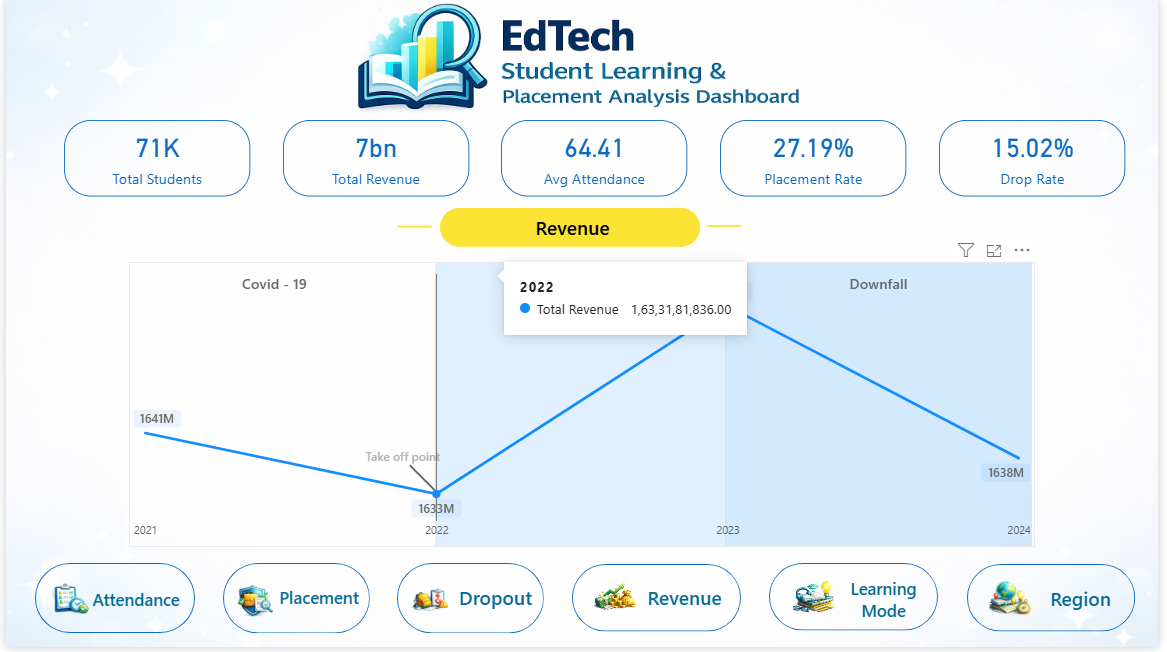

The dashboard page shown, as its layout file describes it:
{"tool":"powerbi","page":{"name":"Intro","canvas":[1280,720],"ordinal":0},"visuals":[{"type":"shape","box":[476.7,292.3,323.3,316.7],"z":0},{"type":"shape","box":[798.9,292.3,341.1,316.7],"z":1000},{"type":"shape","box":[133.3,291.2,342.2,316.7],"z":2000},{"type":"image","box":[386.7,0,500,136.7],"z":3000},{"type":"card","fields":{"Values":["project students_data.Total Students"]},"box":[64,133.9,207.5,85.1],"z":4000},{"type":"shape","box":[32.2,626.8,177.8,77.8],"z":4000,"group":"g5"},{"type":"card","fields":{"Values":["project students_data.Total Revenue"]},"box":[307.4,133.9,206.6,85.1],"z":5000},{"type":"shape","box":[240.8,626.6,163.2,78.1],"z":5000,"group":"g6"},{"type":"card","fields":{"Values":["project students_data.Avg Attendance"]},"box":[550,133.9,207.5,85.1],"z":6000},{"type":"textbox","box":[290.8,646.6,113.3,40],"z":6000,"group":"g6"},{"type":"textbox","box":[91.1,649,118.9,40],"z":6000,"group":"g5"},{"type":"card","fields":{"Values":["project students_data.Placement Rate"]},"box":[793.4,133.9,207.5,85.1],"z":7000},{"type":"shape","box":[434.9,626.2,163.2,78.1],"z":7000,"group":"g4"},{"type":"image","box":[50.7,635.5,40.5,60.7],"z":7000,"group":"g5"},{"type":"image","box":[256.5,638.5,40.5,59.8],"z":7000,"group":"g6"},{"type":"card","fields":{"Values":["project students_data.Drop Rate"]},"box":[1036.8,133.9,207.5,85.1],"z":8000},{"type":"textbox","box":[497.6,644.7,94.6,39.2],"z":8000,"group":"g4"},{"type":"group","id":"g1","title":"Group 2","box":[847.5,627.1,187.8,75.6],"z":9000},{"type":"image","box":[451.3,636.9,40.5,59.8],"z":9000,"group":"g4"},{"type":"group","id":"g2","title":"Group 3","box":[1067.4,627.4,186.9,74.9],"z":10000},{"type":"shape","box":[628.9,627.6,187.7,74.9],"z":10000,"group":"g3"},{"type":"group","id":"g3","title":"Group 1","box":[628.9,627.6,187.8,74.4],"z":11000},{"type":"textbox","box":[700.4,645.8,108,38.3],"z":11000,"group":"g3"},{"type":"group","id":"g4","title":"Group 4","box":[434.9,626.2,163.3,78.9],"z":12000},{"type":"image","box":[653.5,635.8,46.8,57.4],"z":12000,"group":"g3"},{"type":"group","id":"g5","title":"Group 5","box":[32.2,626.8,177.8,77.8],"z":13000},{"type":"shape","box":[847.5,627.1,187.7,74.9],"z":13000,"group":"g1"},{"type":"group","id":"g6","title":"Group 6","box":[240.8,626.6,163.3,78.1],"z":14000},{"type":"textbox","box":[920.7,636.6,107.9,63.5],"z":14000,"group":"g1"},{"type":"textbox","box":[675.6,316.8,95.6,26.7],"z":15000},{"type":"image","box":[873.8,636.3,46.8,57.4],"z":15000,"group":"g1"},{"type":"shape","box":[766.7,303.4,31.1,65.6],"z":16000},{"type":"shape","box":[1067.4,627.4,186.9,74.9],"z":16000,"group":"g2"},{"type":"textbox","box":[247.8,300.1,101.1,36.7],"z":17000},{"type":"textbox","box":[1139.2,645.9,108,38.3],"z":17000,"group":"g2"},{"type":"textbox","box":[585.6,300.1,101.1,36.7],"z":18000},{"type":"image","box":[1092.4,635.9,46.8,57.4],"z":18000,"group":"g2"},{"type":"textbox","box":[918.9,300.1,101.1,36.7],"z":19000},{"type":"textbox","box":[388.9,494.6,104.4,26.7],"z":20000},{"type":"shape","box":[447.8,500.1,31.1,65.6],"z":21000},{"type":"lineChart","fields":{"Category":["project students_data.Enrollment_Date.Variation.Date Hierarchy.Year"],"Y":["project students_data.Total Revenue"]},"box":[136.7,292.2,1006.7,316.7],"z":22000},{"type":"textbox","box":[482.3,232.2,288.9,43.3],"z":23000},{"type":"shape","box":[779,223.3,37.8,57.8],"z":24000},{"type":"shape","box":[435.5,223.9,37.2,56.7],"z":25000}]}

Visuals, with their boxes in screenshot pixels (x1, y1, x2, y2), scaled from the page's 1280x720 canvas onto the 1167x652 screenshot:
shape: crop(435, 265, 729, 551)
shape: crop(728, 265, 1039, 551)
shape: crop(122, 264, 434, 550)
image: crop(353, 0, 808, 124)
card - project students_data.Total Students: crop(58, 121, 248, 198)
shape: crop(29, 568, 191, 638)
card - project students_data.Total Revenue: crop(280, 121, 469, 198)
shape: crop(220, 567, 368, 638)
card - project students_data.Avg Attendance: crop(501, 121, 691, 198)
textbox: crop(265, 586, 368, 622)
textbox: crop(83, 588, 191, 624)
card - project students_data.Placement Rate: crop(723, 121, 913, 198)
shape: crop(397, 567, 545, 638)
image: crop(46, 575, 83, 630)
image: crop(234, 578, 271, 632)
card - project students_data.Drop Rate: crop(945, 121, 1134, 198)
textbox: crop(454, 584, 540, 619)
"Group 2" group: crop(773, 568, 944, 636)
image: crop(411, 577, 448, 631)
"Group 3" group: crop(973, 568, 1144, 636)
shape: crop(573, 568, 745, 636)
"Group 1" group: crop(573, 568, 745, 636)
textbox: crop(639, 585, 737, 619)
"Group 4" group: crop(397, 567, 545, 639)
image: crop(596, 576, 638, 628)
"Group 5" group: crop(29, 568, 191, 638)
shape: crop(773, 568, 944, 636)
"Group 6" group: crop(220, 567, 368, 638)
textbox: crop(839, 576, 938, 634)
textbox: crop(616, 287, 703, 311)
image: crop(797, 576, 839, 628)
shape: crop(699, 275, 727, 334)
shape: crop(973, 568, 1144, 636)
textbox: crop(226, 272, 318, 305)
textbox: crop(1039, 585, 1137, 620)
textbox: crop(534, 272, 626, 305)
image: crop(996, 576, 1039, 628)
textbox: crop(838, 272, 930, 305)
textbox: crop(355, 448, 450, 472)
shape: crop(408, 453, 437, 512)
lineChart - project students_data.Enrollment_Date.Variation.Date Hierarchy.Year x project students_data.Total Revenue: crop(125, 265, 1042, 551)
textbox: crop(440, 210, 703, 249)
shape: crop(710, 202, 745, 255)
shape: crop(397, 203, 431, 254)
